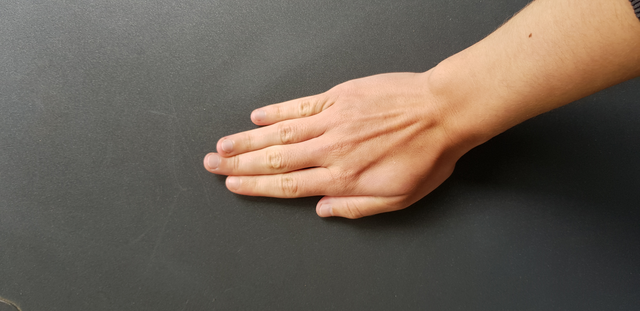Paper: (196, 57, 452, 240)
